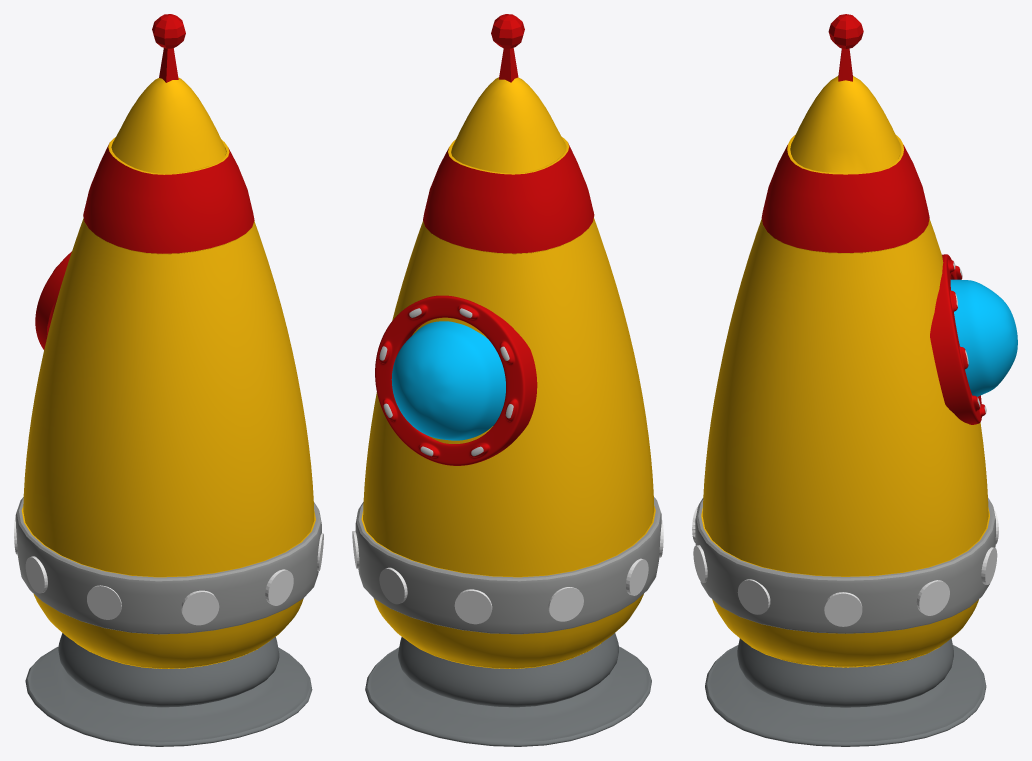
The model's file is Yellow Ship.fbx.
3 views of the same model, side by side, from view 1: azimuth 30°, elevation 25°; view 2: azimuth 150°, elevation 25°; view 3: azimuth 270°, elevation 25° (orthographic).
Visible parts, largest first — view 1: Cube, Cylinder, Window; view 2: Cube, Window, Cylinder; view 3: Cube, Window, Cylinder.
Part boxes in pixels (x1=…): Cube: x1=15, y1=14, x2=321, y2=746; Cylinder: x1=14, y1=517, x2=323, y2=625; Window: x1=35, y1=251, x2=71, y2=349; Cube: x1=355, y1=14, x2=661, y2=746; Window: x1=375, y1=295, x2=537, y2=465; Cylinder: x1=352, y1=520, x2=663, y2=624; Cube: x1=695, y1=14, x2=995, y2=746; Window: x1=930, y1=254, x2=1017, y2=424; Cylinder: x1=692, y1=507, x2=998, y2=626.
Size of the model in its own units: 242 by 580 by 255.
